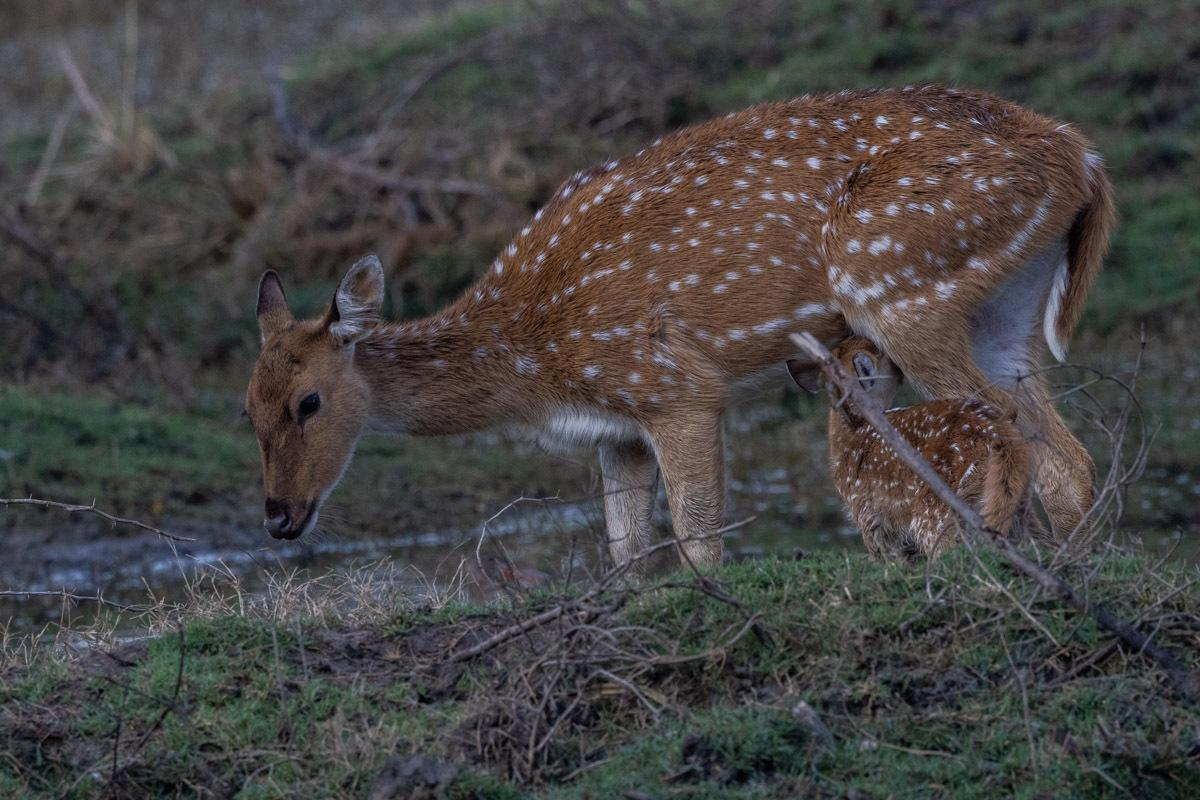Deer: (249, 85, 1114, 564), (788, 336, 1029, 556)
